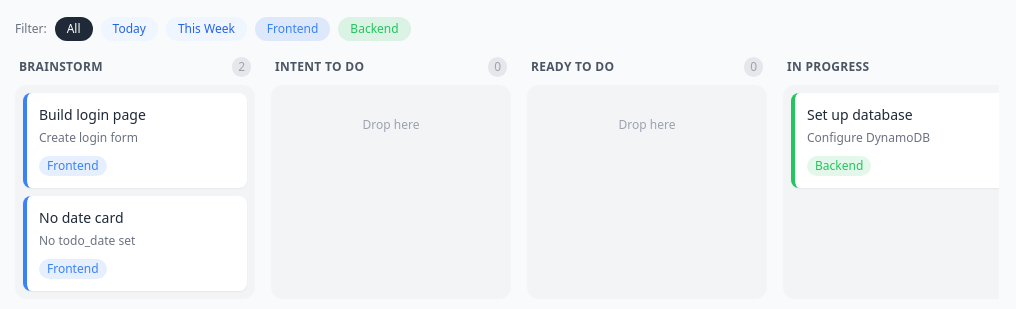
KanbanView › clicking a category filter chip filters to only that category's cards
// Click the "Frontend" chip
Click the button "Frontend": point(293, 29) [255,17,330,41]
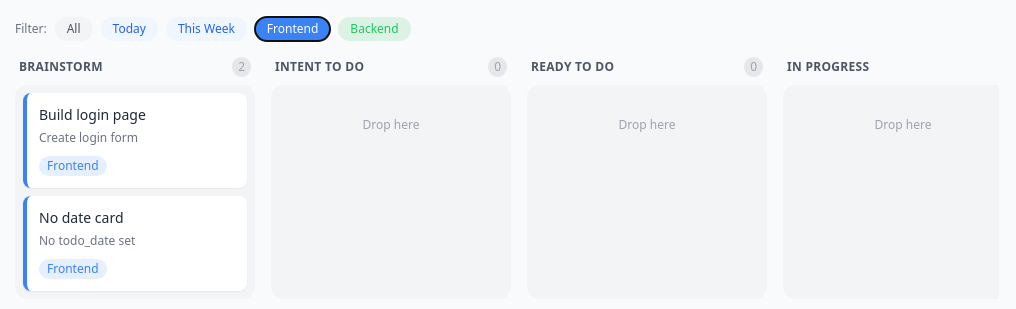
Expected: the text "Build login page" is shown, [39,105,146,124]
Result: the text "Set up database" is gone
